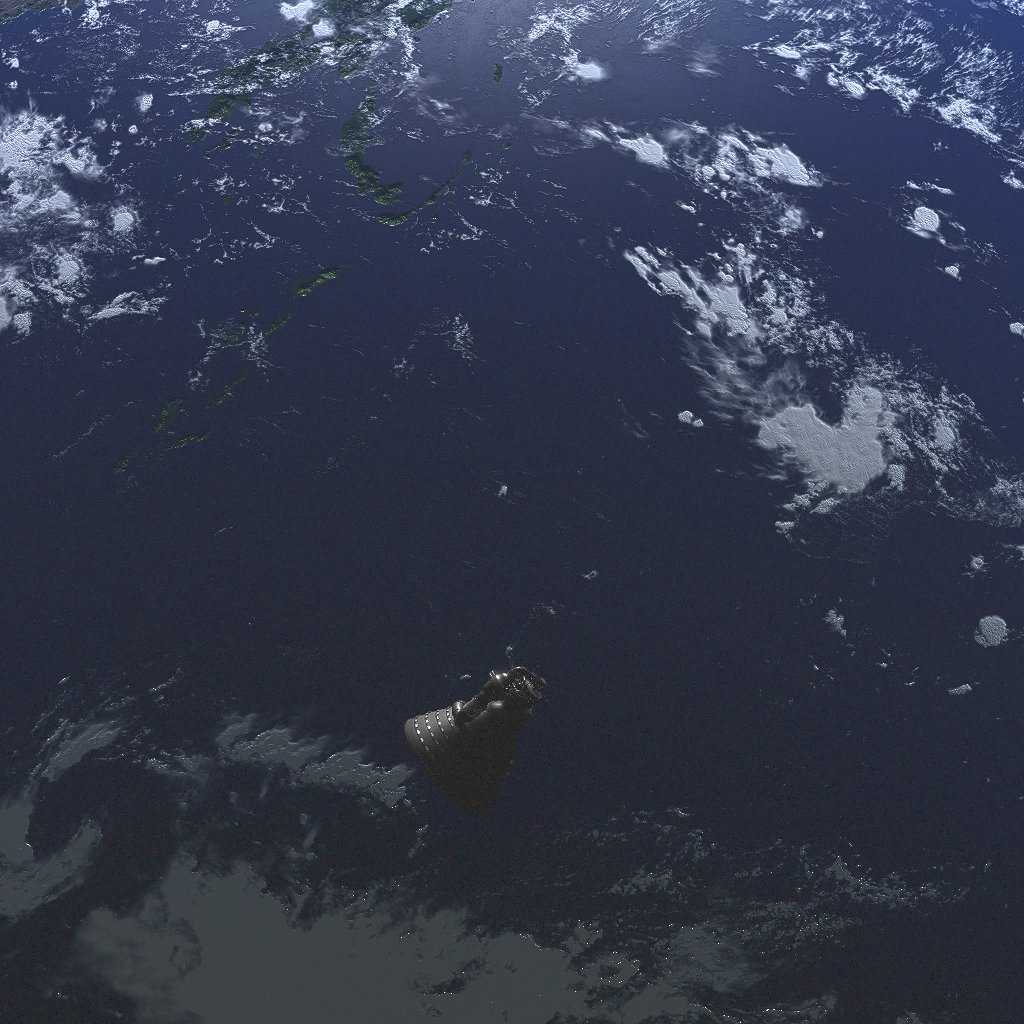debris: (404, 666, 552, 816)
